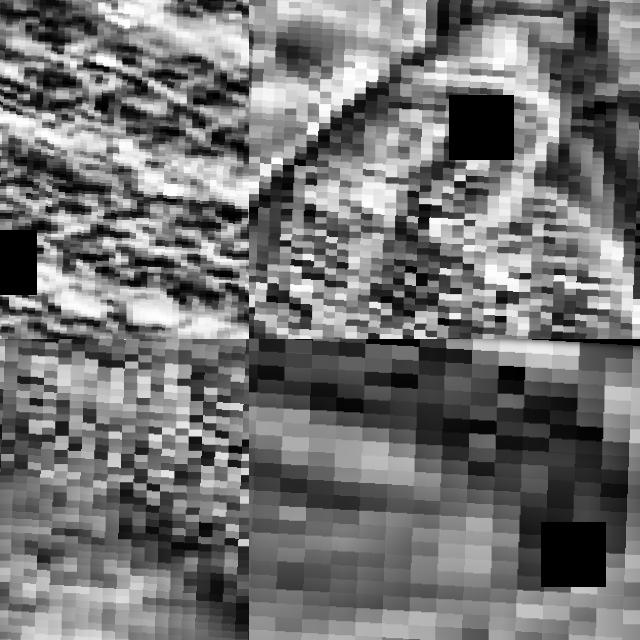crab: (249, 0, 640, 339), (0, 339, 249, 640)
fish: (249, 339, 640, 640), (0, 0, 249, 339)
